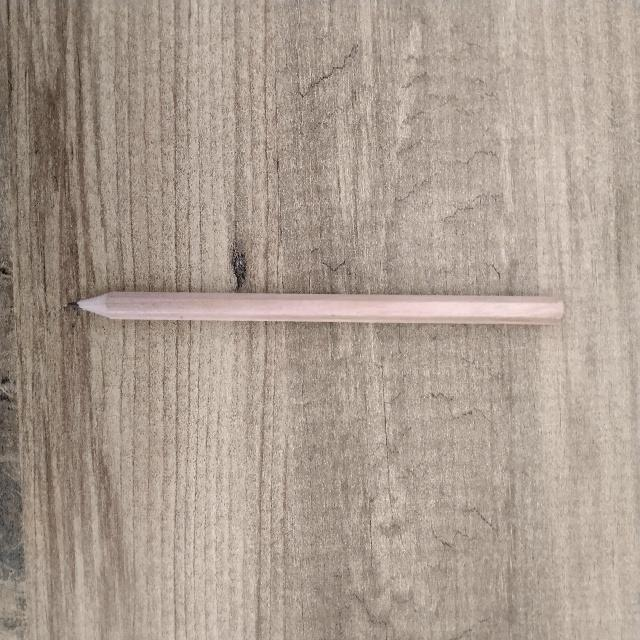pencil: (72, 292, 563, 323)
